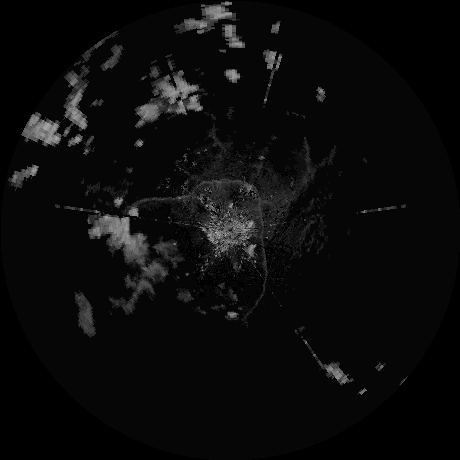frontgust: (139, 179, 257, 209), (245, 199, 269, 319)
